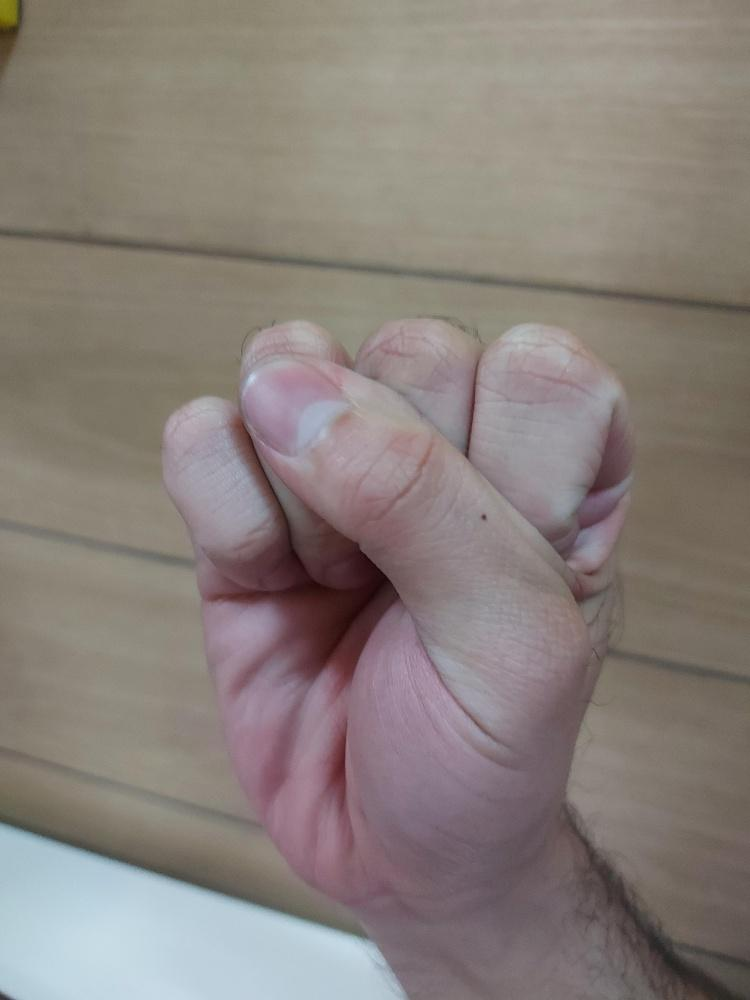s: (157, 308, 632, 905)
